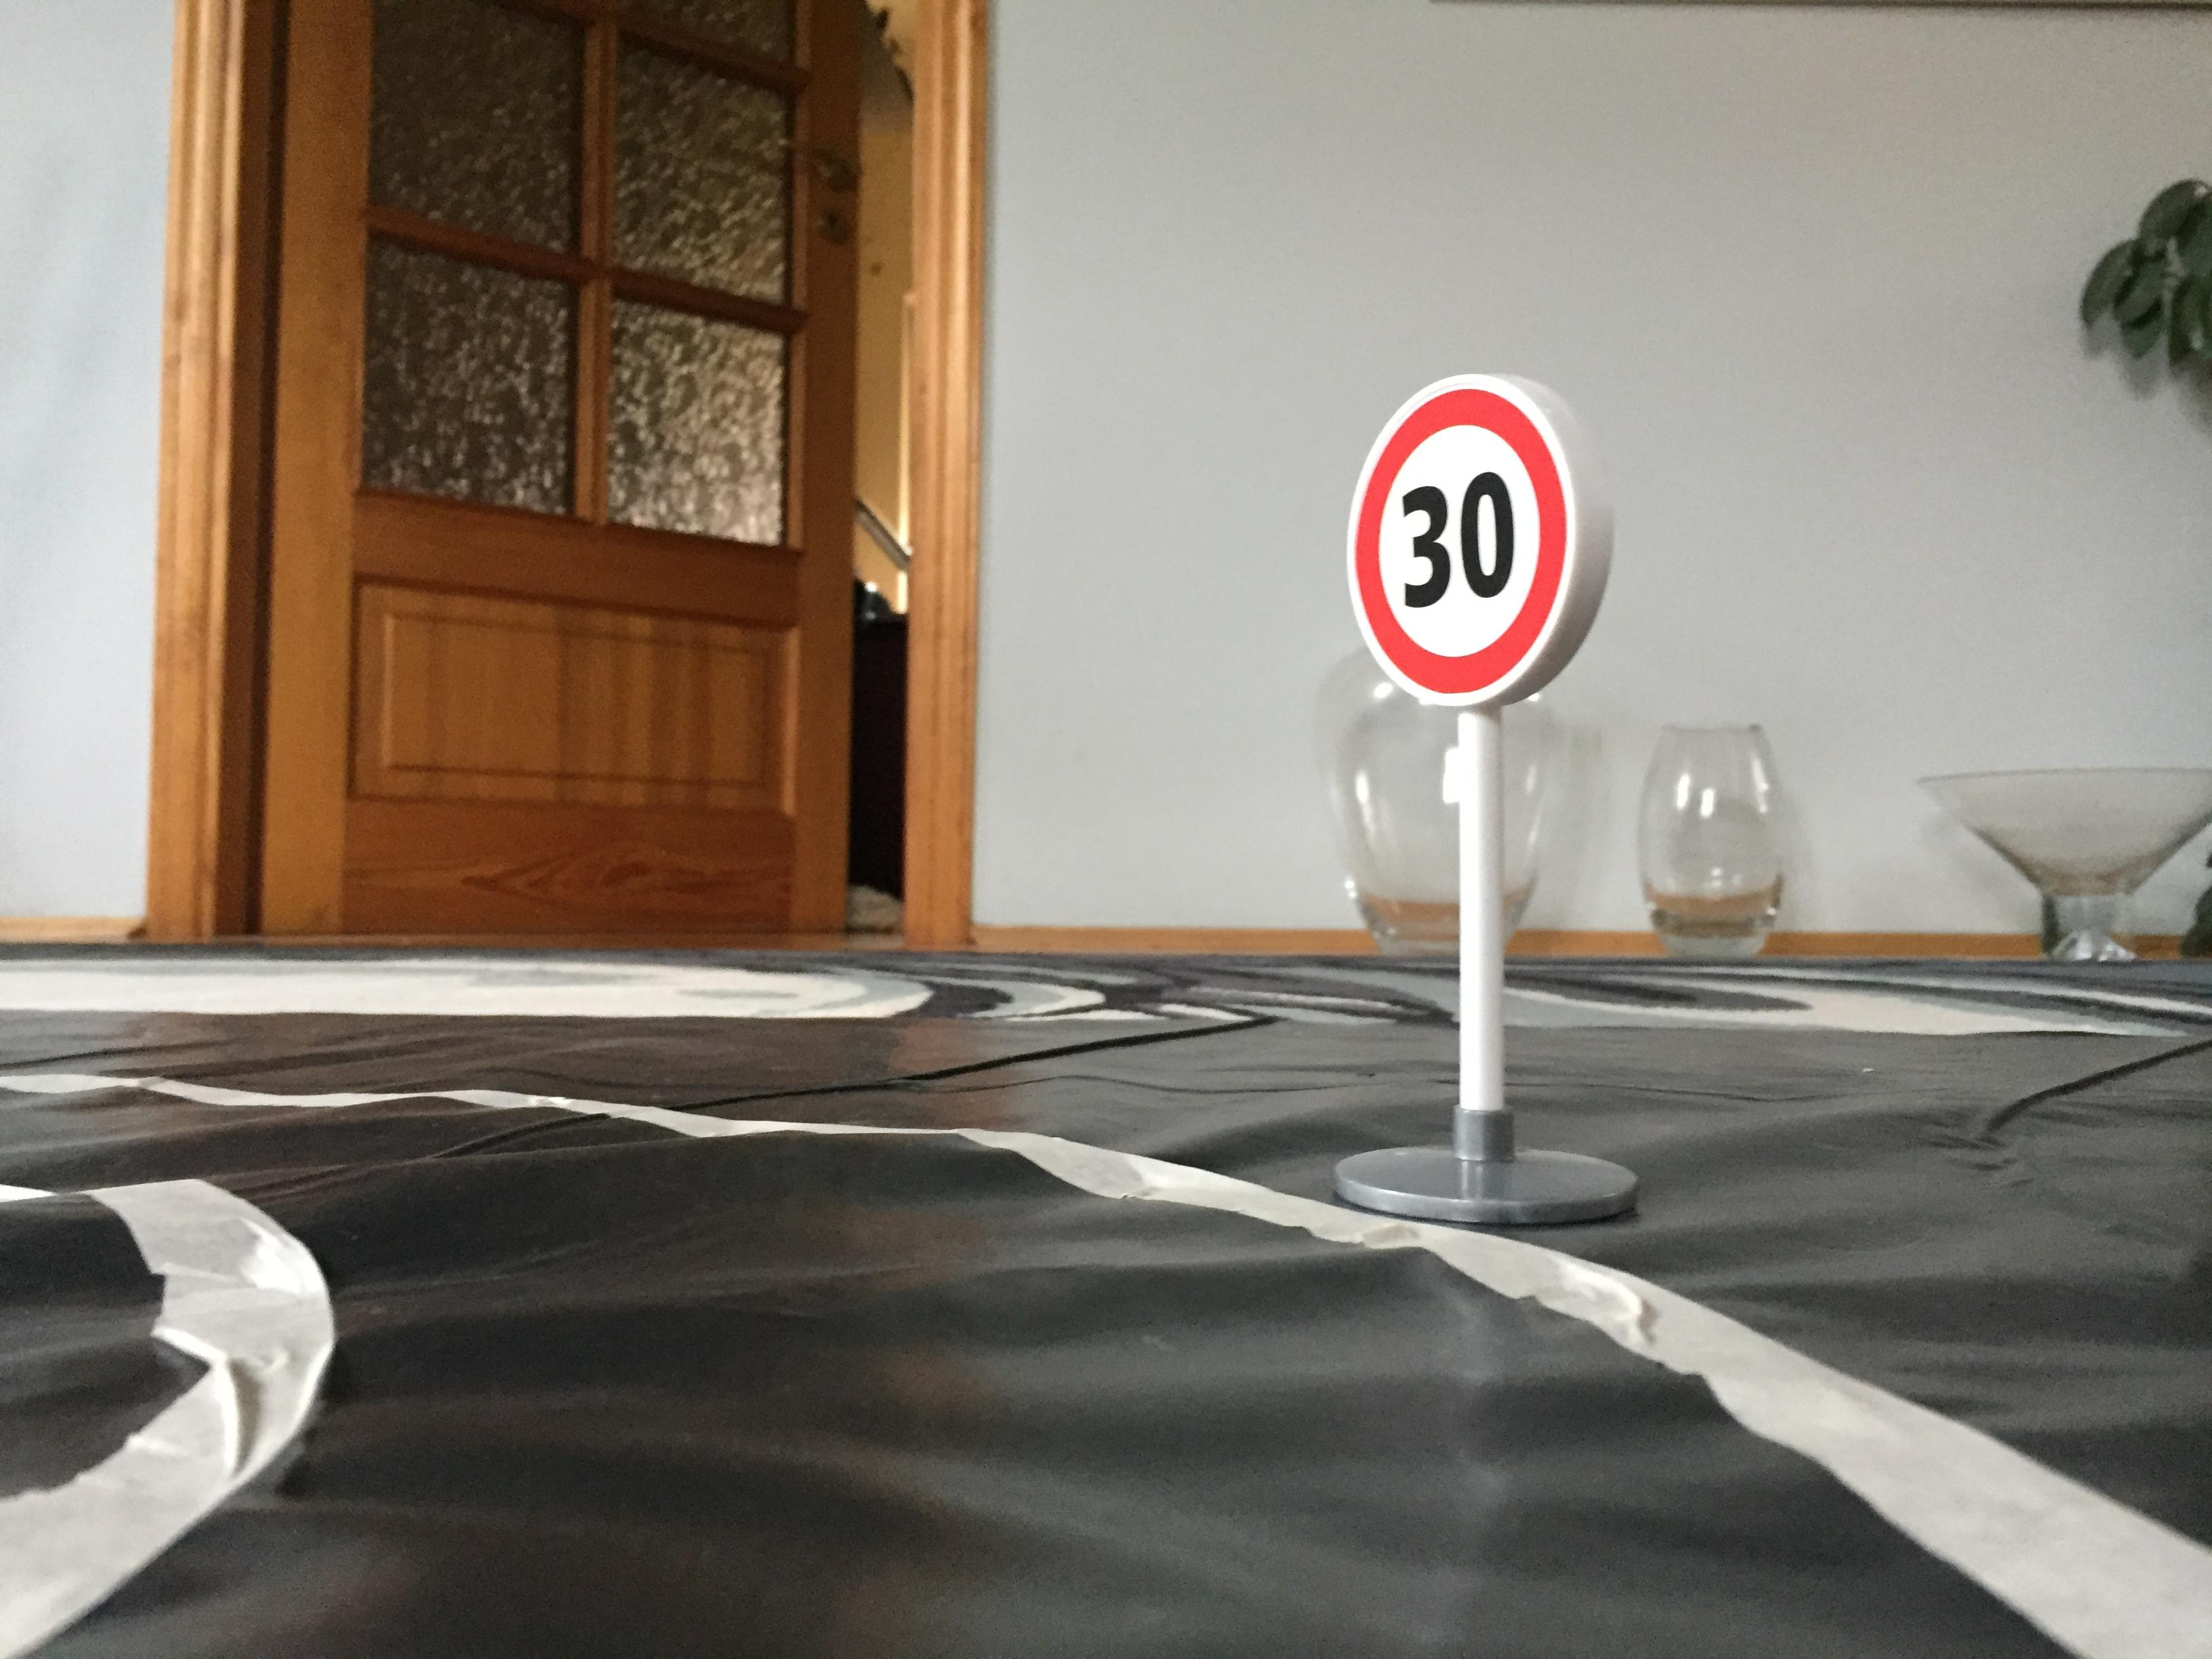speed: (1336, 357, 1629, 716)
